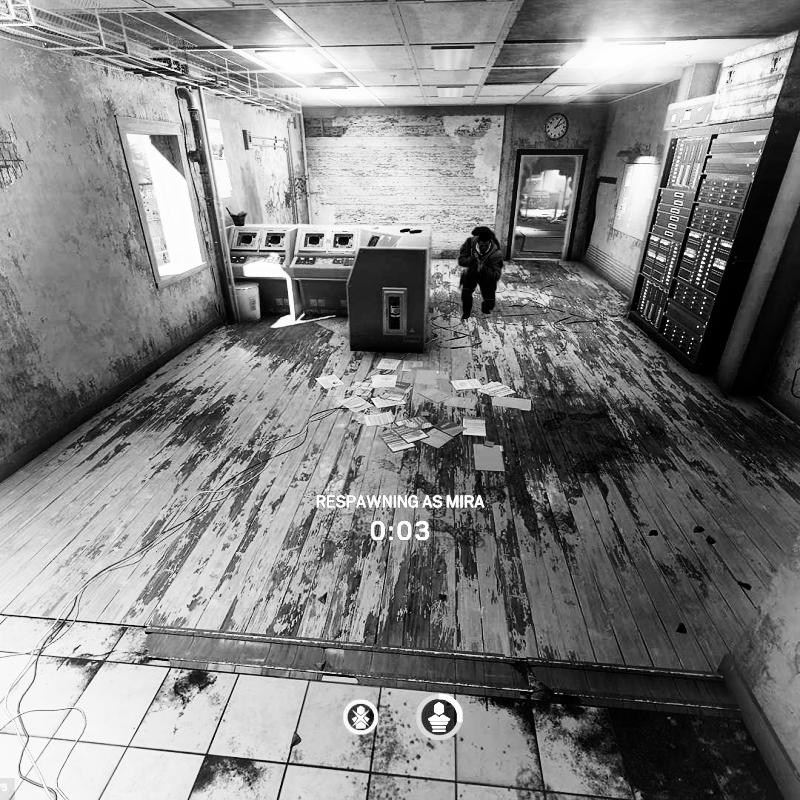Character: (457, 225, 504, 322)
Head: (477, 232, 492, 254)
